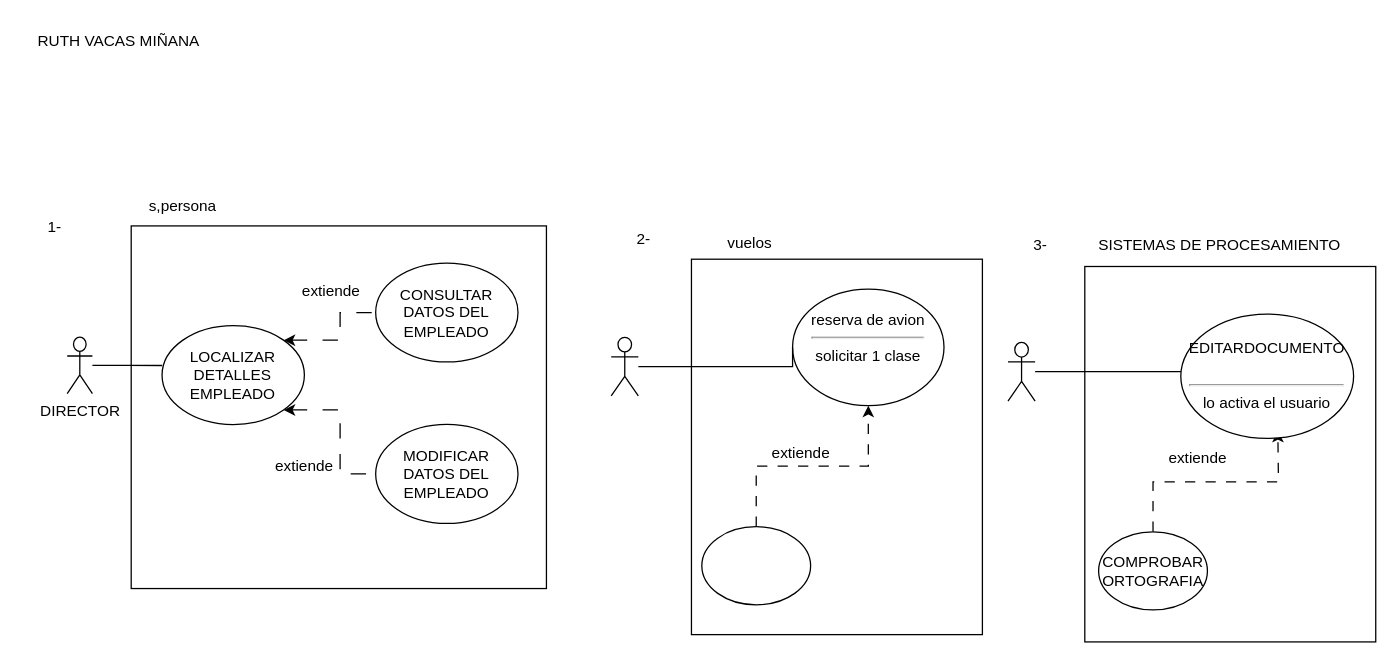
This 1398x664 diagram has some shape labels left out. The box of each missing label's shape, as (x1, y1, x2, y2) in pixels:
Agente: (610, 336, 638, 396)
reserva de primera clase: (701, 525, 811, 605)
USUARIO: (1007, 341, 1035, 401)
